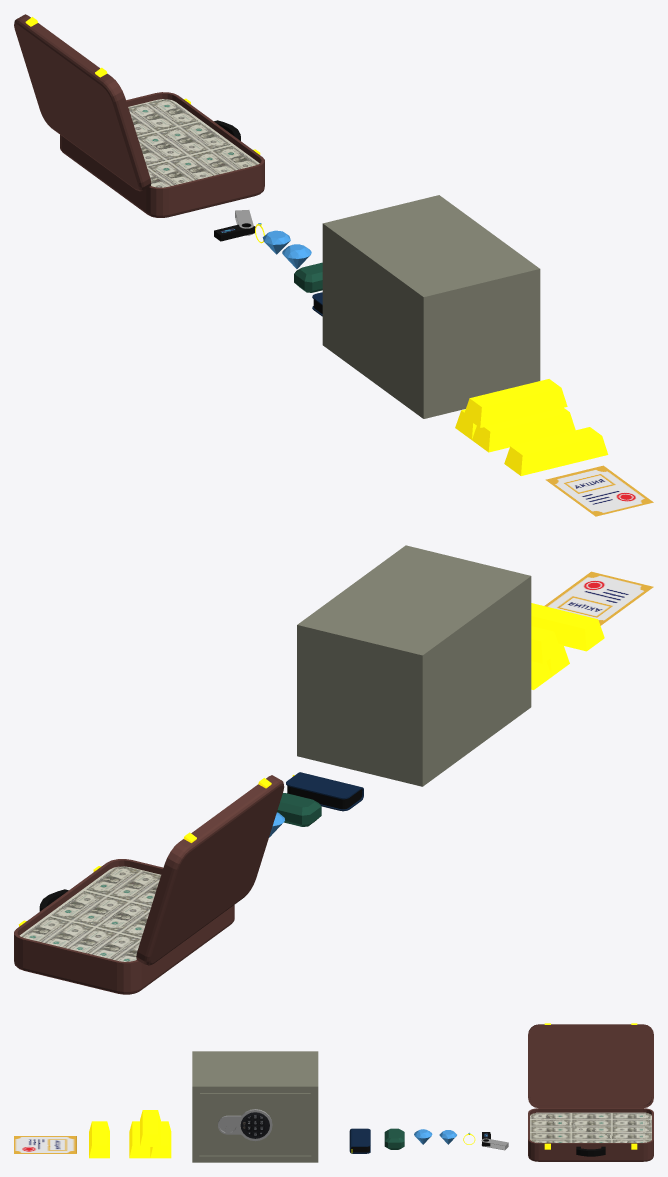
The model's file is bank props.fbx.
The picture shows the model from 3 angles, top to bottom: view 1: azimuth 30°, elevation 25°; view 2: azimuth 150°, elevation 25°; view 3: azimuth 270°, elevation 25°; orthographic projection. The views are drawn at different scales.
Parts seen in each view (by area): view 1: safe, suitcase, ingot x3, ingot, share, cryptocurrency wallet; view 2: safe, suitcase, share, ingot, wallet, ingot x3, emerald; view 3: suitcase, safe, ingot x3, share, ingot, wallet, emerald, cryptocurrency wallet.
Part boxes in pixels (x1=…): safe: x1=322, y1=195, x2=540, y2=418; suitcase: x1=14, y1=14, x2=264, y2=217; ingot x3: x1=455, y1=379, x2=575, y2=452; ingot: x1=504, y1=427, x2=608, y2=475; share: x1=545, y1=465, x2=653, y2=516; cryptocurrency wallet: x1=214, y1=210, x2=255, y2=241; safe: x1=297, y1=545, x2=531, y2=786; suitcase: x1=14, y1=775, x2=284, y2=994; share: x1=544, y1=571, x2=653, y2=625; ingot: x1=531, y1=603, x2=604, y2=651; wallet: x1=286, y1=772, x2=363, y2=811; ingot x3: x1=531, y1=626, x2=569, y2=689; emerald: x1=277, y1=793, x2=321, y2=826; suitcase: x1=528, y1=1023, x2=653, y2=1161; safe: x1=192, y1=1051, x2=318, y2=1162; ingot x3: x1=129, y1=1110, x2=171, y2=1158; share: x1=14, y1=1136, x2=76, y2=1153; ingot: x1=89, y1=1121, x2=109, y2=1158; wallet: x1=349, y1=1128, x2=370, y2=1153; emerald: x1=384, y1=1128, x2=404, y2=1149; cryptocurrency wallet: x1=481, y1=1132, x2=508, y2=1150.
Bounding box in the file's own units: 60 × 49.15 × 305.
12 materials, 4 textured.
